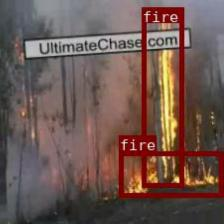fire: (140, 7, 182, 187), (118, 150, 223, 196)
